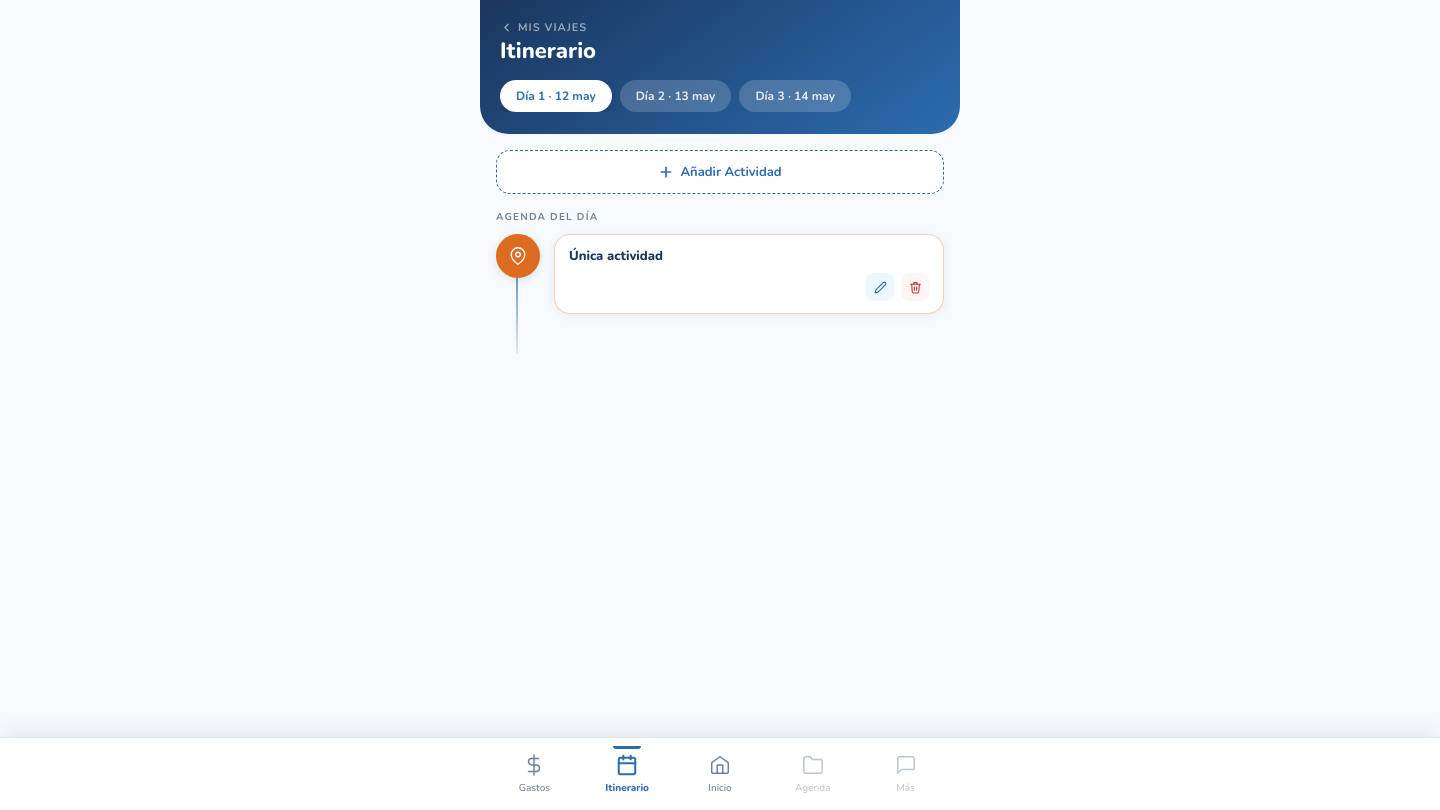
Scenario: Itinerario · editar y eliminar actividades › al eliminar la última actividad del día lo indica
Click the button named "Eliminar Única actividad". click: point(915, 287)
box: [901,273,929,301]
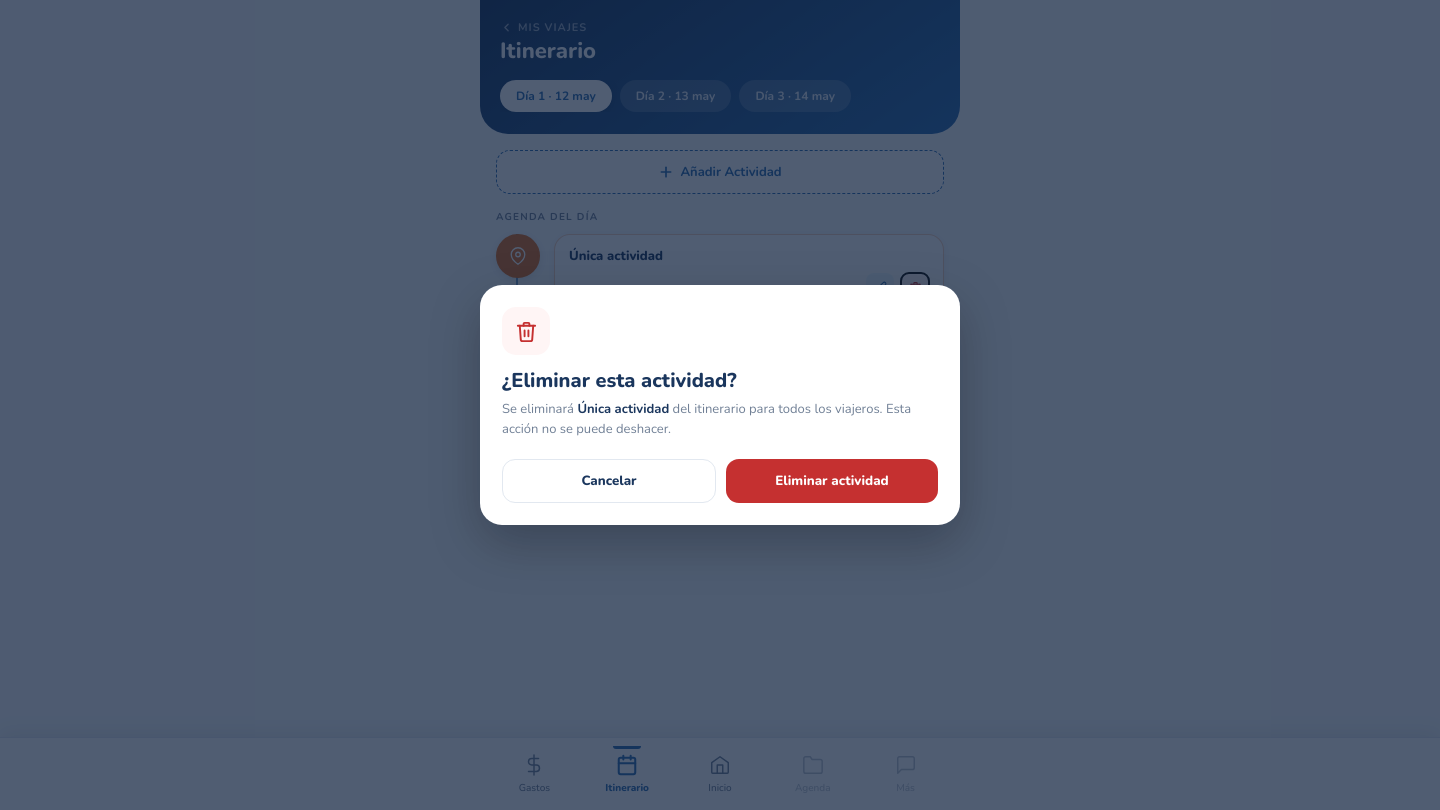
Click the button "Eliminar actividad". click: point(832, 481)
box: [726,459,938,503]
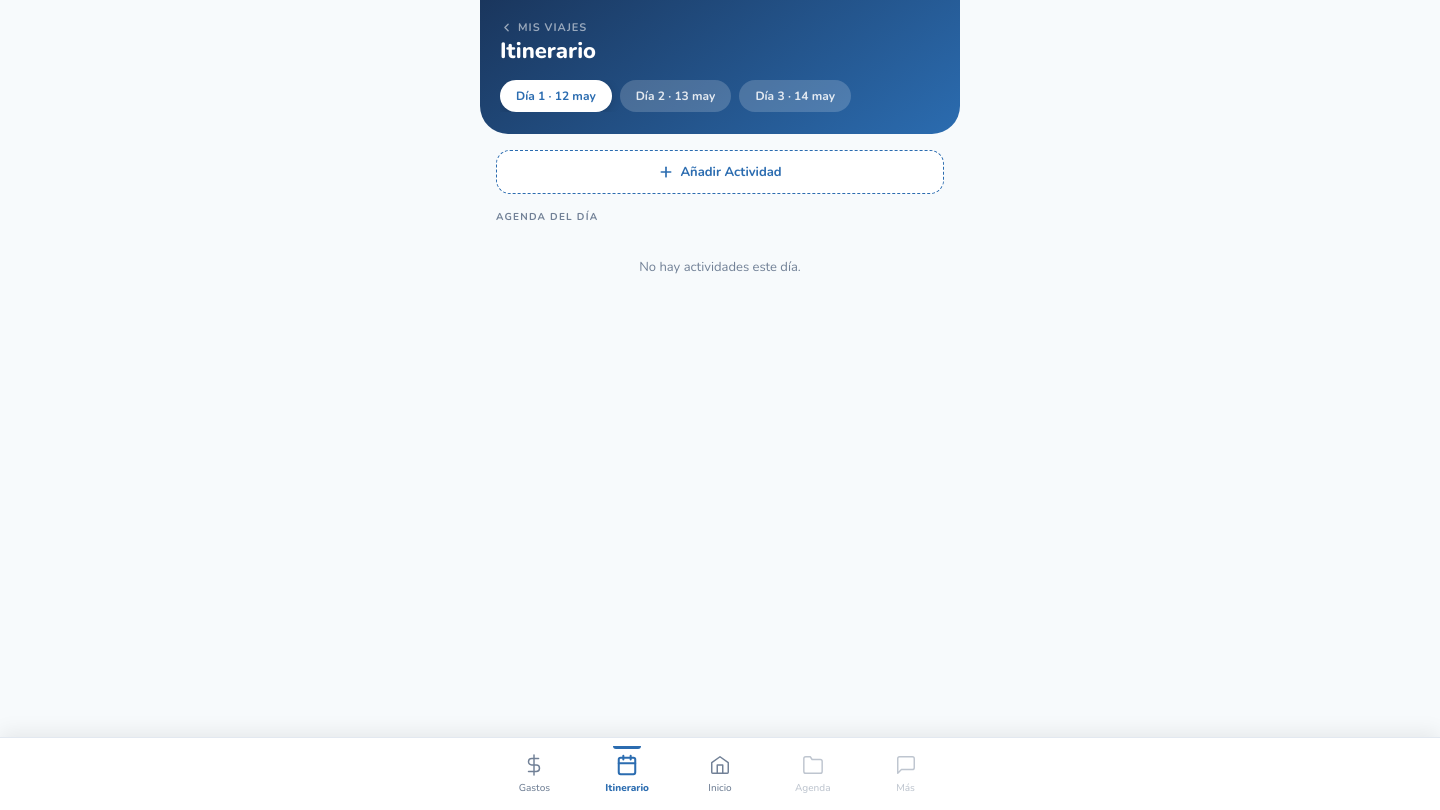
Expected: the text "No hay actividades este día." is shown, [639,258,801,276]
